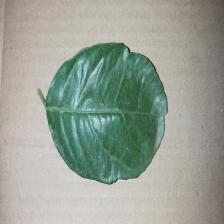healthy: (38, 57, 165, 183)
